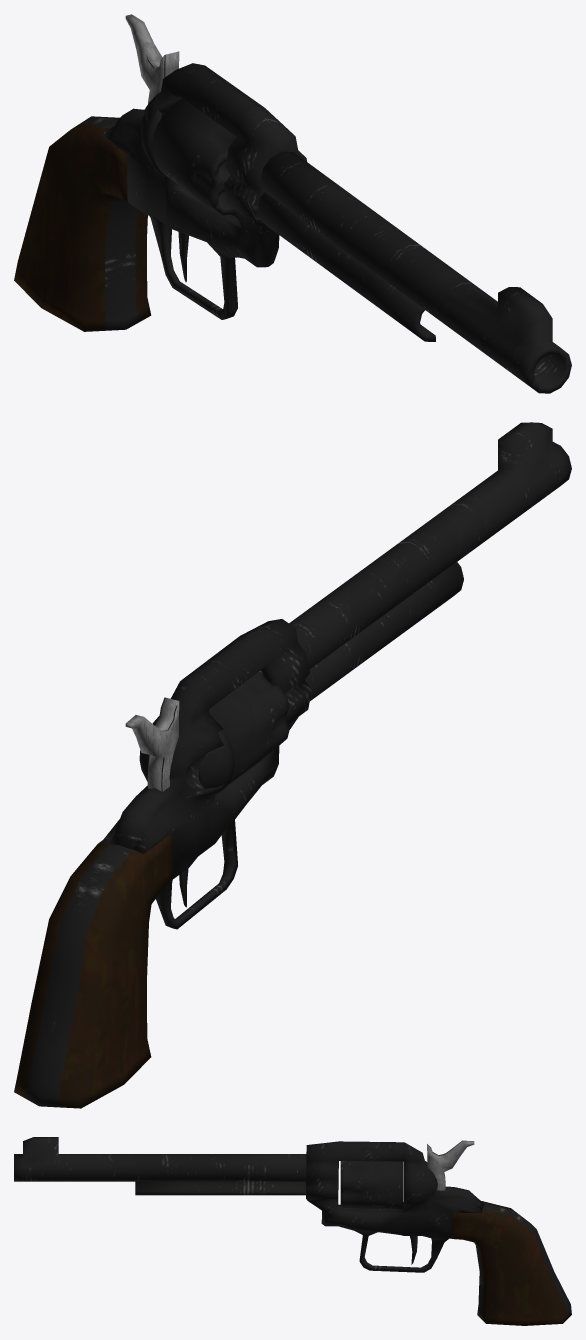
The model's file is Revolver1.fbx.
The picture shows the model from 3 angles, top to bottom: view 1: azimuth 30°, elevation 25°; view 2: azimuth 150°, elevation 25°; view 3: azimuth 270°, elevation 25°; orthographic projection. The views are drawn at different scales.
Visible parts, largest first — view 1: Grip, Barrel, Base, Cylinder, Barrel.001, Hammer, LoadingGate; view 2: Grip, Base, Barrel, Barrel.001, Cylinder, Hammer, LoadingGate; view 3: Base, Grip, Barrel, Cylinder, Barrel.001, Hammer.
Boxes of the visible parts, x1=… form: Grip: x1=14, y1=116, x2=151, y2=331; Barrel: x1=260, y1=151, x2=571, y2=393; Base: x1=100, y1=63, x2=307, y2=319; Cylinder: x1=152, y1=98, x2=238, y2=220; Barrel.001: x1=257, y1=192, x2=435, y2=341; Hammer: x1=125, y1=14, x2=179, y2=103; LoadingGate: x1=141, y1=109, x2=168, y2=177; Grip: x1=14, y1=833, x2=172, y2=1108; Base: x1=100, y1=619, x2=311, y2=929; Barrel: x1=289, y1=422, x2=571, y2=669; Barrel.001: x1=305, y1=562, x2=463, y2=701; Cylinder: x1=209, y1=671, x2=289, y2=784; Hammer: x1=125, y1=697, x2=179, y2=791; LoadingGate: x1=198, y1=729, x2=234, y2=793; Base: x1=306, y1=1141, x2=484, y2=1272; Grip: x1=451, y1=1201, x2=571, y2=1325; Barrel: x1=14, y1=1137, x2=306, y2=1181; Cylinder: x1=340, y1=1161, x2=403, y2=1208; Barrel.001: x1=135, y1=1181, x2=305, y2=1195; Hammer: x1=427, y1=1140, x2=474, y2=1190.
Bounding box in the file's own units: 2.78 × 10.08 × 28.85.
3 materials, 3 textured.
